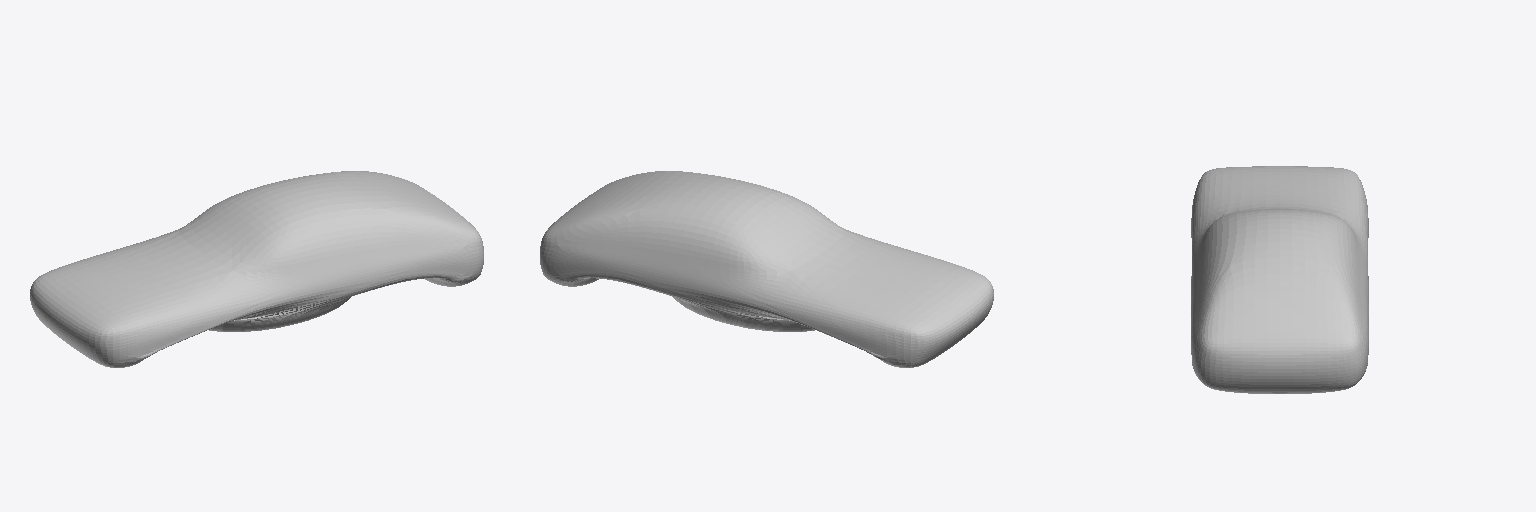
File: futuristic.obj
3 renders of one model, left to right at view 1: azimuth 30°, elevation 25°; view 2: azimuth 150°, elevation 25°; view 3: azimuth 270°, elevation 25°, orthographic.
Parts seen in each view (by area): view 1: Cube.001_Mesh; view 2: Cube.001_Mesh; view 3: Cube.001_Mesh.
Part boxes in pixels (x1,y1,x2,y2): Cube.001_Mesh: (30,171,483,367); Cube.001_Mesh: (540,171,993,367); Cube.001_Mesh: (1191,166,1368,393).
Size of the model in its own units: 5.18 by 1.31 by 2.